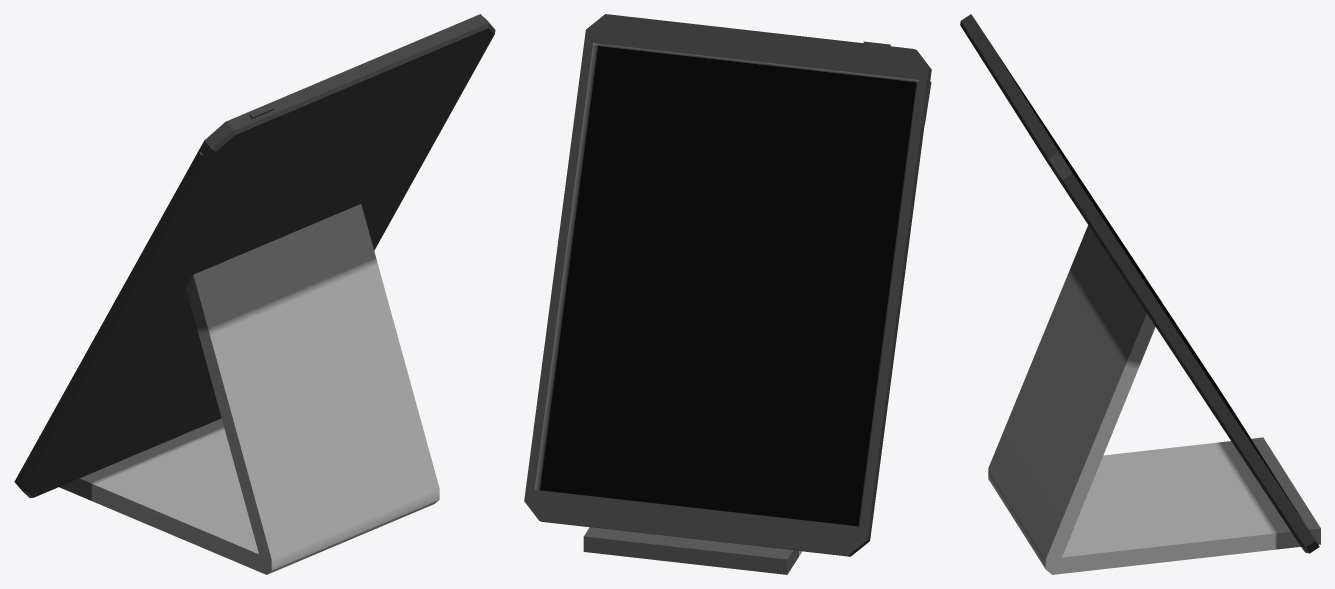
The picture shows the model from 3 angles, left to right: view 1: azimuth 30°, elevation 25°; view 2: azimuth 150°, elevation 25°; view 3: azimuth 270°, elevation 25°; orthographic projection. The views are drawn at different scales.
Visible parts, largest first — view 1: tablet_mesh; view 2: tablet_mesh; view 3: tablet_mesh.
Boxes of the visible parts, x1,y1,x2,y2 form: tablet_mesh: (14, 14, 495, 574); tablet_mesh: (524, 14, 931, 574); tablet_mesh: (960, 14, 1320, 574).
Size of the model in its own units: 0.2358 by 0.2693 by 0.1976.
Materials: 1 (1 with a texture image).
